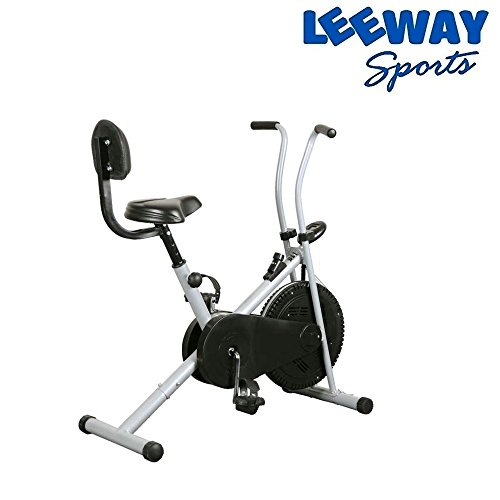gym_bike: (51, 116, 384, 462)
